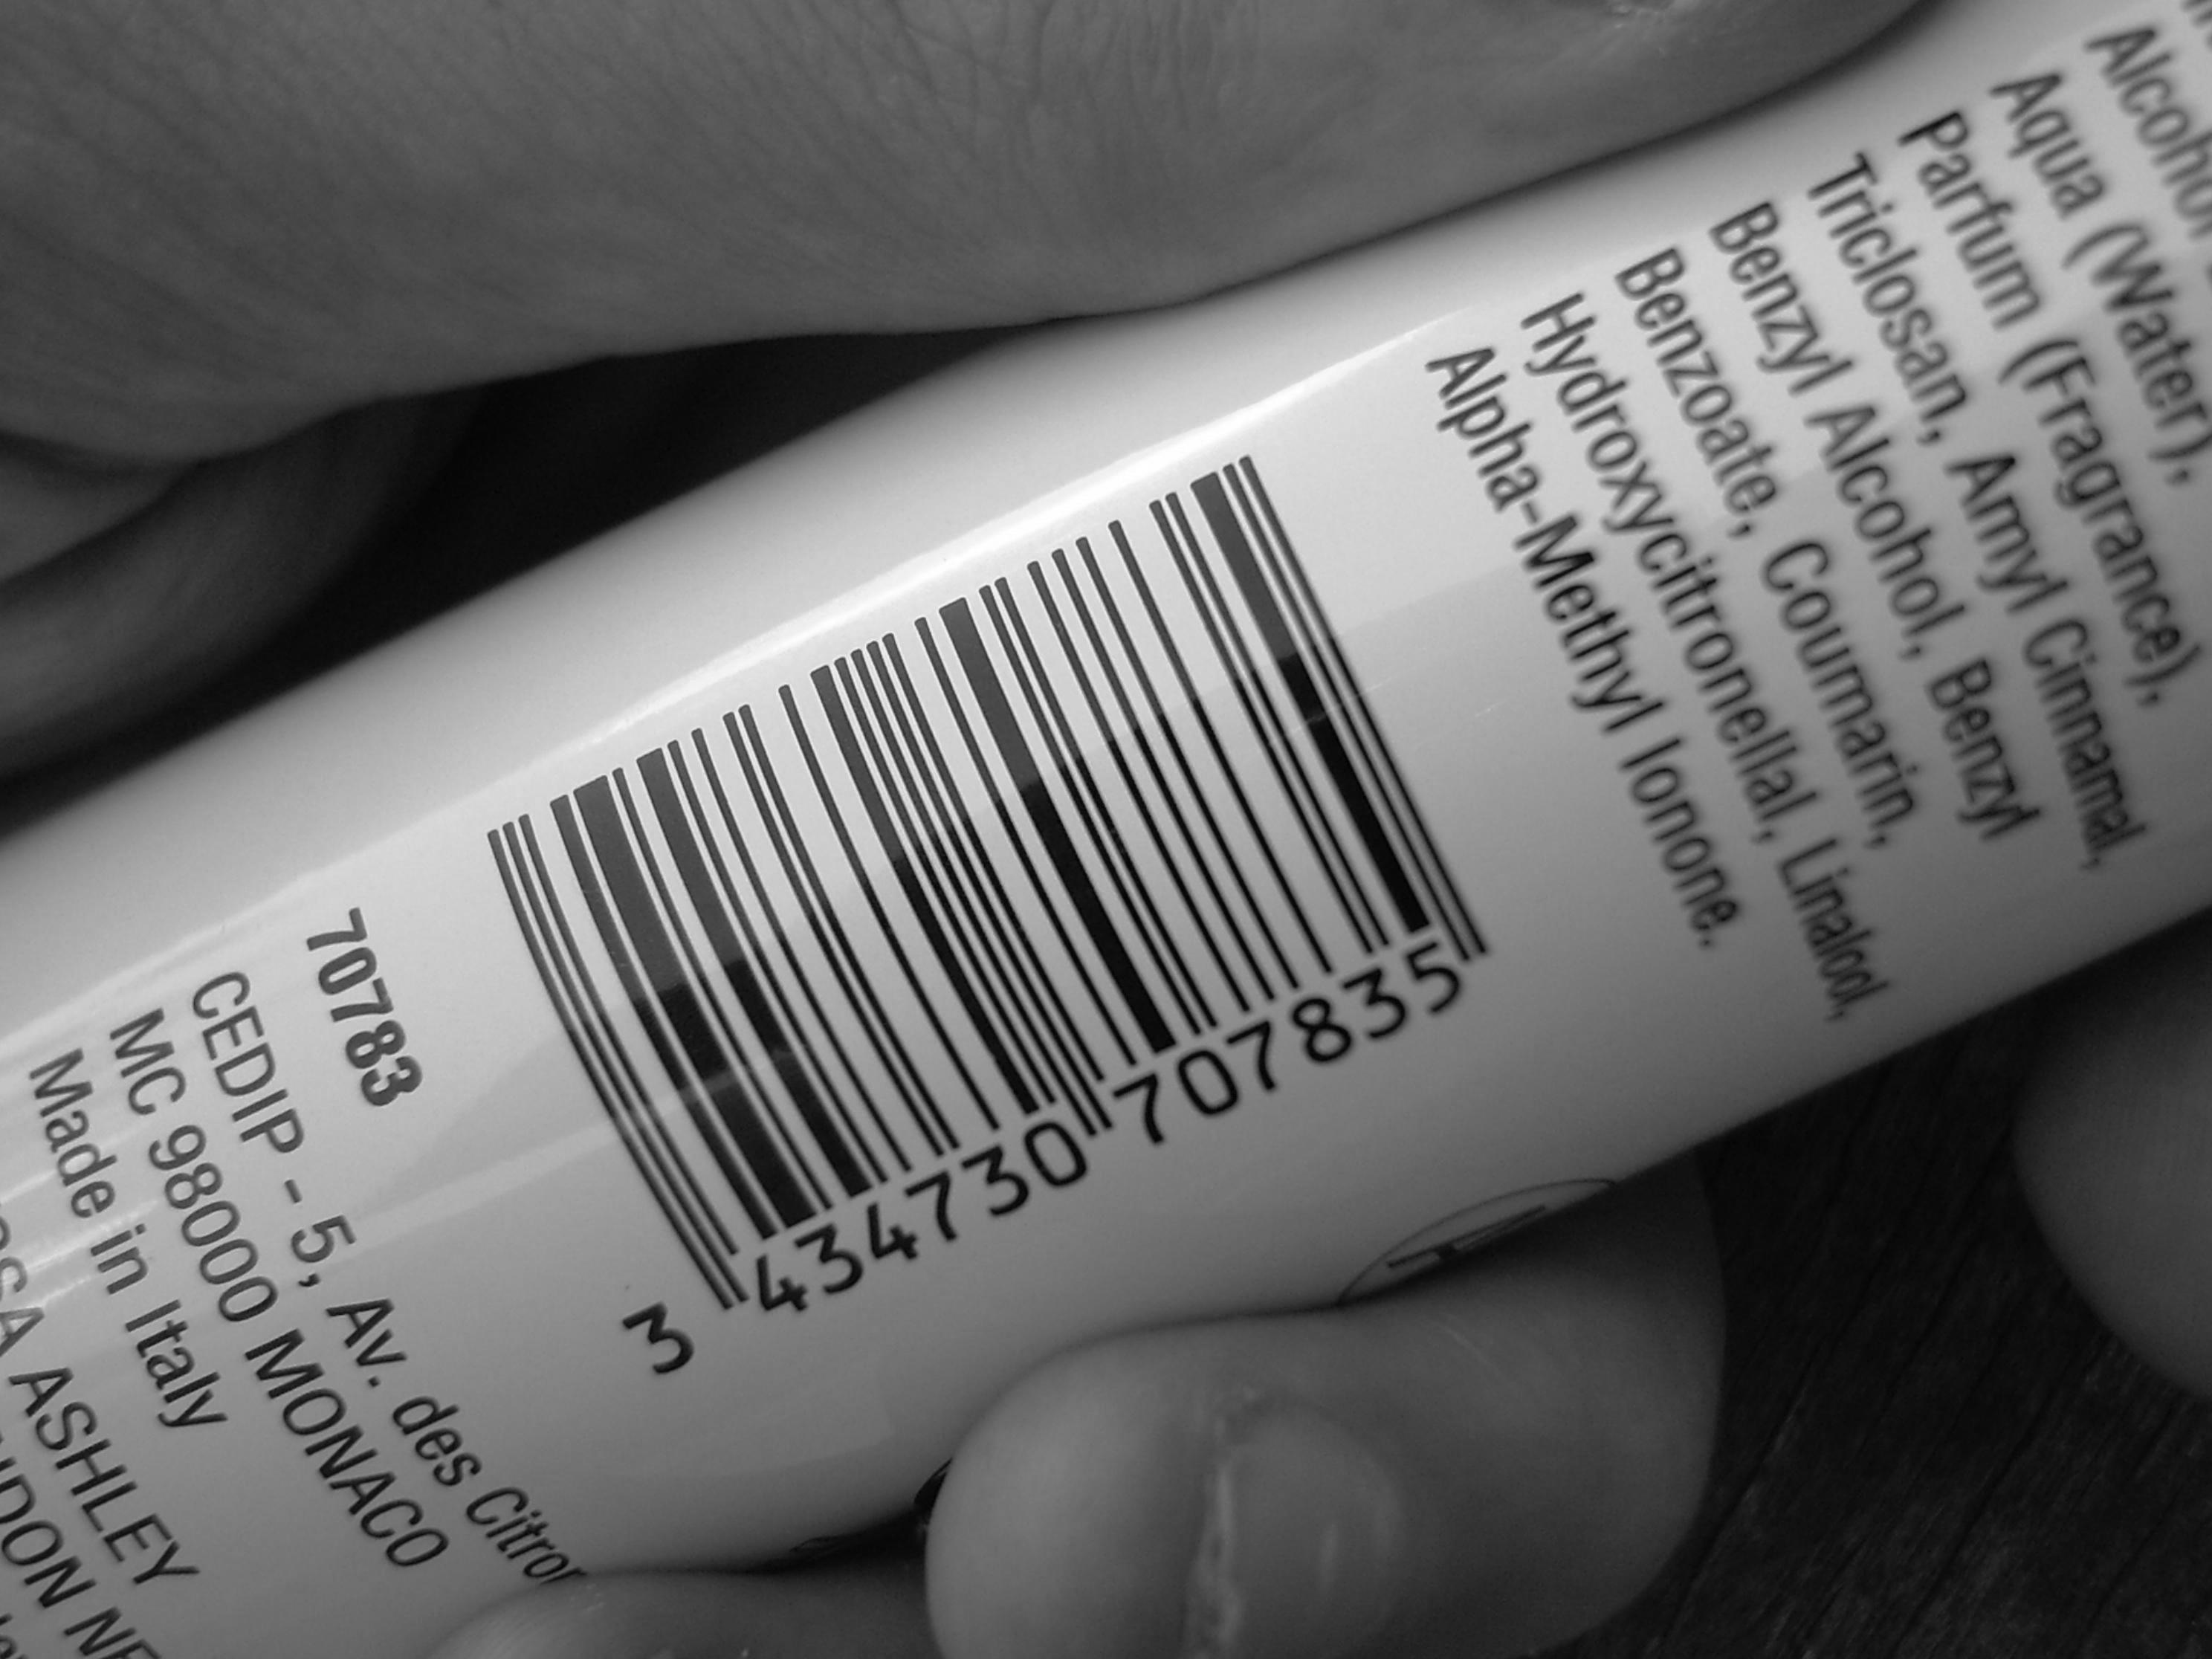Barcode: (489, 422, 1573, 1248)
